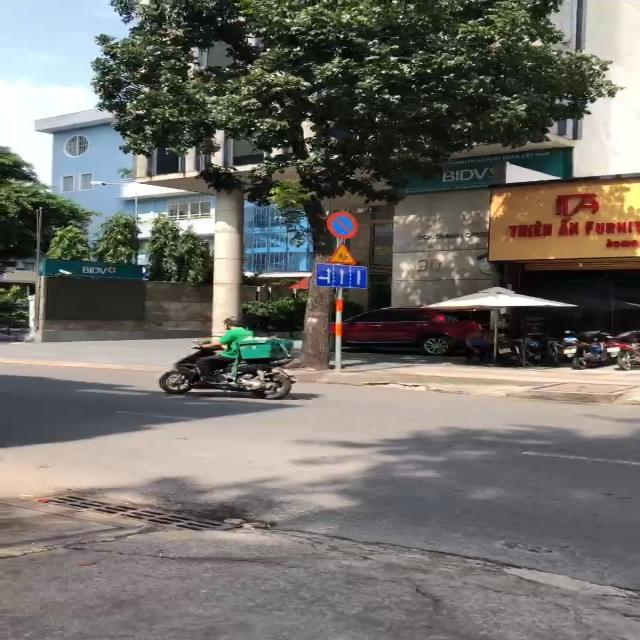Bien bao tre em: (326, 241, 361, 264)
